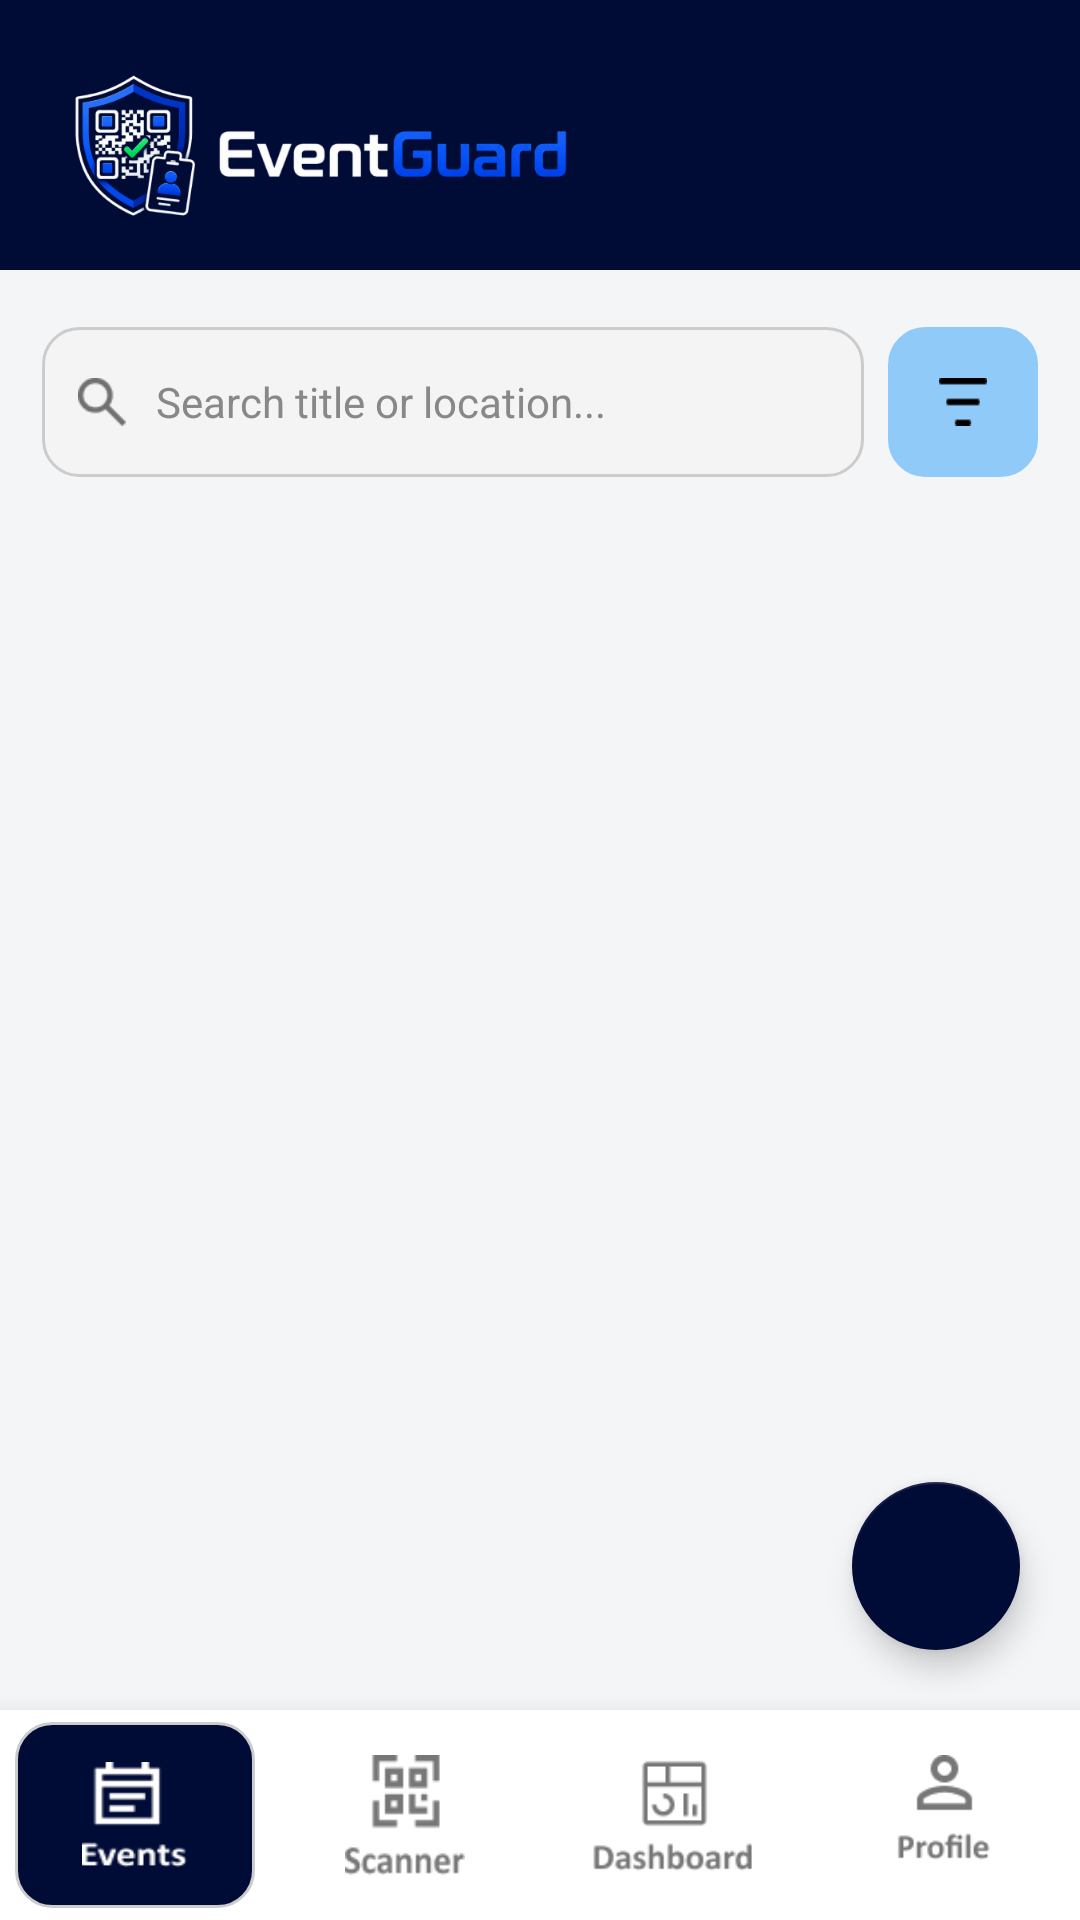

Icon click points for this 1080×1920 phone screenshot, format (x,y):
filter: (963,402)
